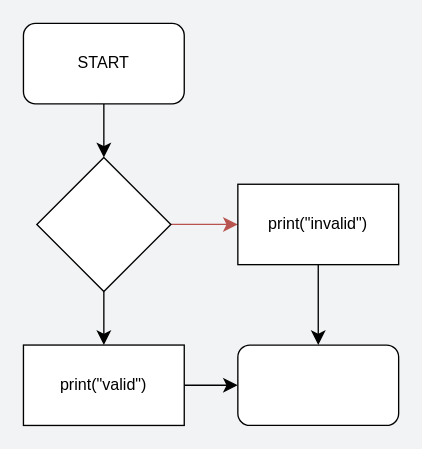
Some shapes in this 422 by 449 pixel diagram are drawn without their labels. The centre of each missing label's shape, as x and y in pixels:
"END" goes at (318,384).
"x > 5 and y < 3" goes at (103,223).
